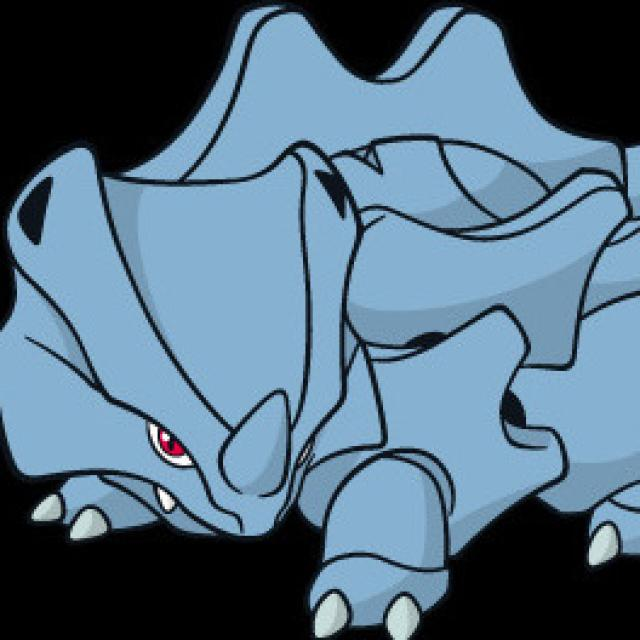Rhyhorn: (14, 53, 640, 637)
